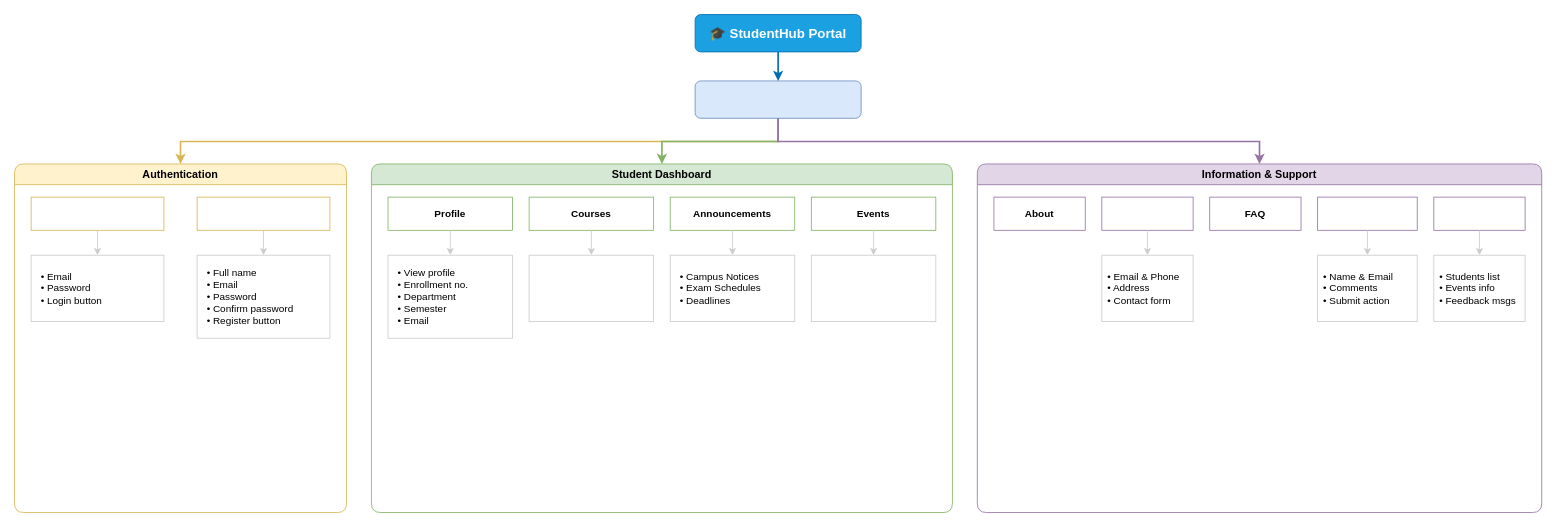
The diagram is 1556 pixels wide and 527 high, and some of its shapes have lost their labels. The centre of each missing label's shape, as x and y in pixels:
Admin: the point at 1479,213
Contact: the point at 1147,213
Feedback: the point at 1367,213
Home (index.html): the point at 777,99
Login: the point at 97,213
Register: the point at 263,213
• Orientation • Study Workshop • Career Guidance: the point at 873,288
• Web Dev • Database Fund. • Communication: the point at 591,288
